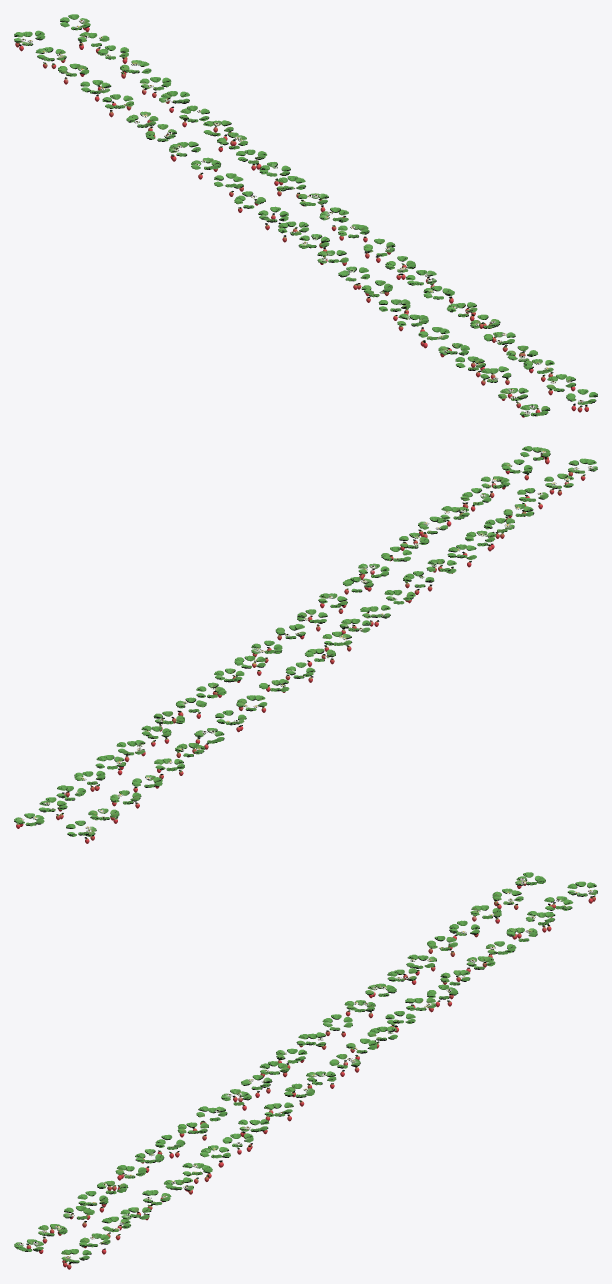
Rendered from SK_StrawberryRow.fbx.
3 views of the same model, one above another, from view 1: azimuth 30°, elevation 25°; view 2: azimuth 150°, elevation 25°; view 3: azimuth 330°, elevation 25° (orthographic).
Parts seen in each view (by area): view 1: SK_StrawberryRow; view 2: SK_StrawberryRow; view 3: SK_StrawberryRow.
Part boxes in pixels (x1=…): SK_StrawberryRow: x1=14, y1=14, x2=597, y2=417; SK_StrawberryRow: x1=14, y1=446, x2=597, y2=843; SK_StrawberryRow: x1=14, y1=872, x2=597, y2=1269.
Bounding box in the file's own units: 212 × 35.3 × 2427.
